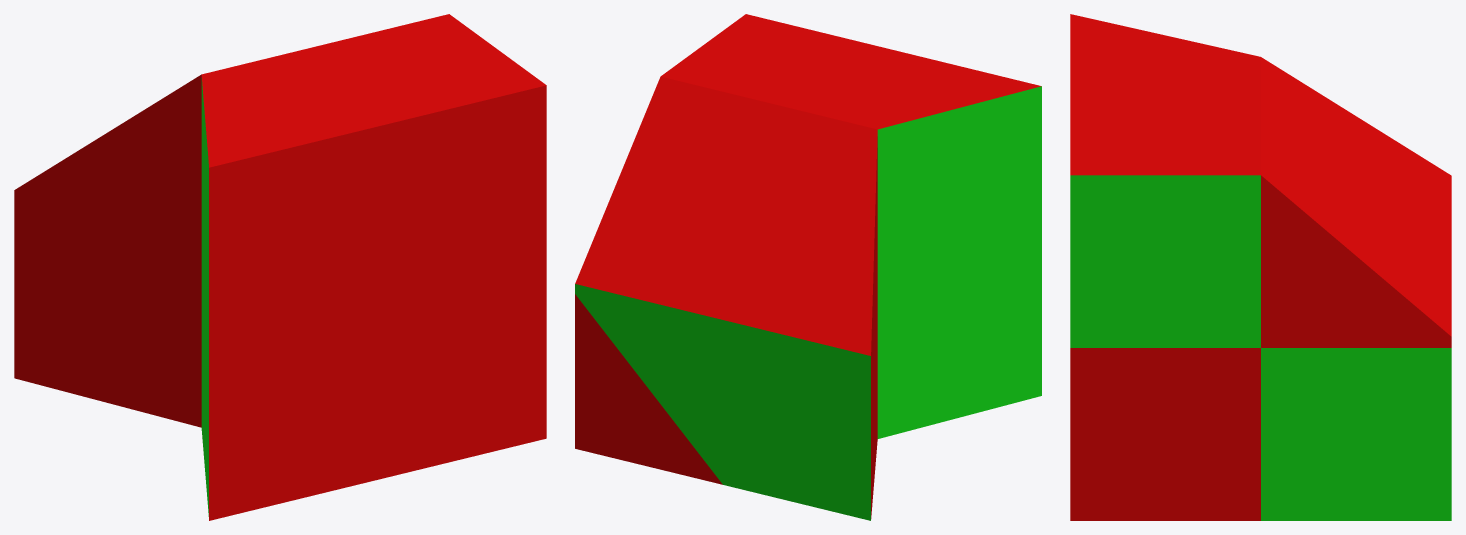
The picture shows the model from 3 angles, left to right: view 1: azimuth 30°, elevation 25°; view 2: azimuth 150°, elevation 25°; view 3: azimuth 270°, elevation 25°; orthographic projection. The views are drawn at different scales.
Parts seen in each view (by area): view 1: Cube; view 2: Cube; view 3: Cube.
Part boxes in pixels (x1,y1,x2,y2): Cube: (14, 14, 546, 520); Cube: (575, 14, 1041, 520); Cube: (1070, 14, 1451, 520).
Size of the model in its own units: 1 by 1 by 1.
